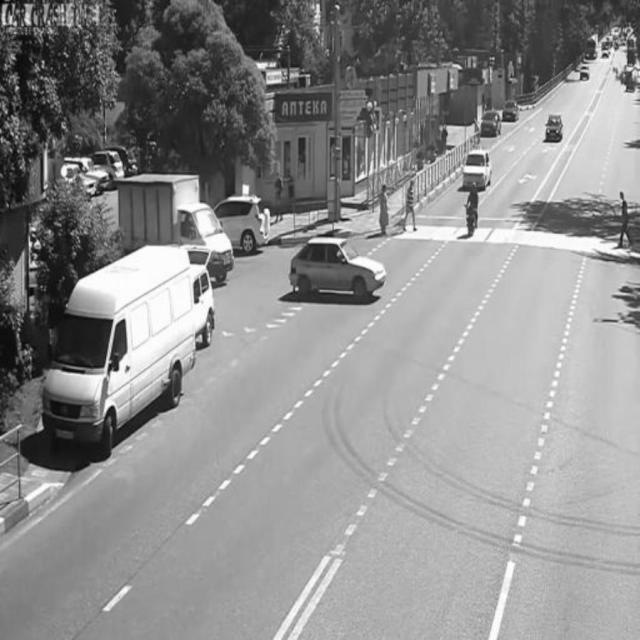person: (616, 188, 634, 254), (402, 172, 419, 236), (378, 174, 394, 238)
vehicle: (40, 246, 197, 452), (119, 177, 237, 277), (289, 237, 387, 301), (212, 192, 272, 253), (462, 146, 492, 192), (462, 179, 480, 246), (479, 109, 504, 139), (544, 113, 564, 140), (501, 97, 519, 124), (578, 62, 594, 82)
